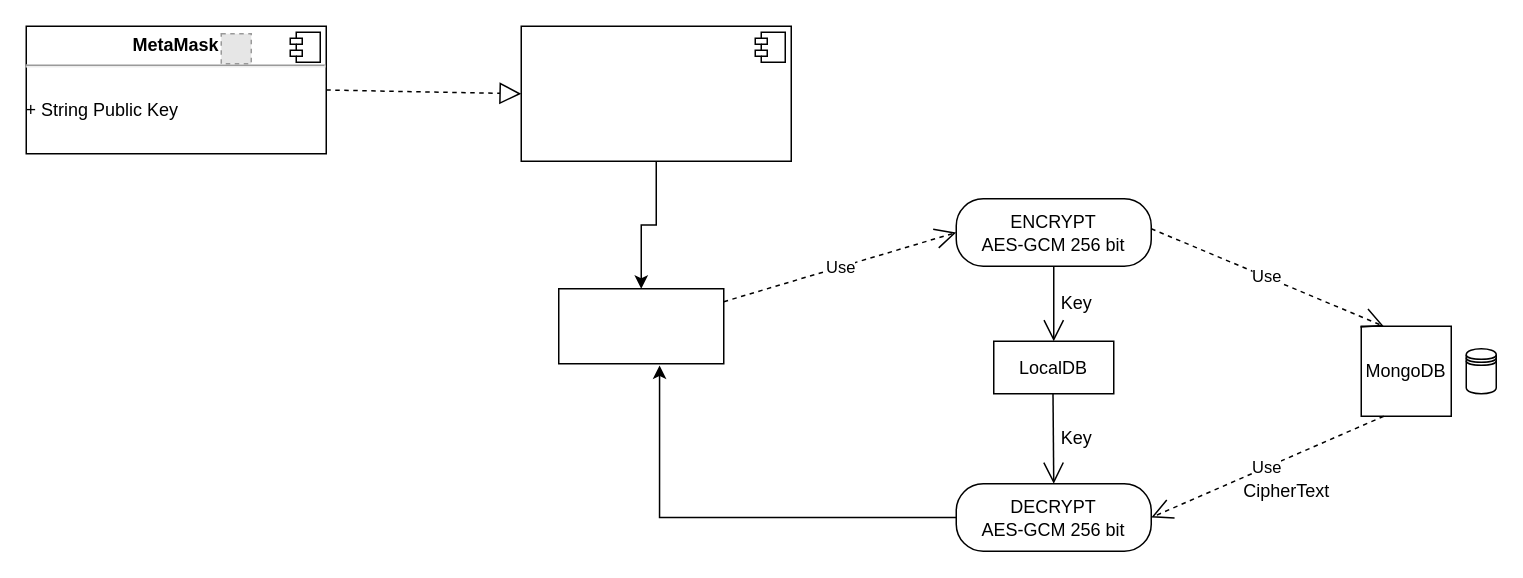
The diagram is 1523 pixels wide and 578 high, and some of its shapes have lost their labels. Grey dashed boxes stand in for pictures. The shapes that lost their labels are listed below. From the top down, each one's box as (x1, y1, x2, y2) in pixels, then its label:
(520, 25, 791, 161): Authenticate + verifySignature(PrivateKey MM)
(557, 287, 724, 364): Notes
